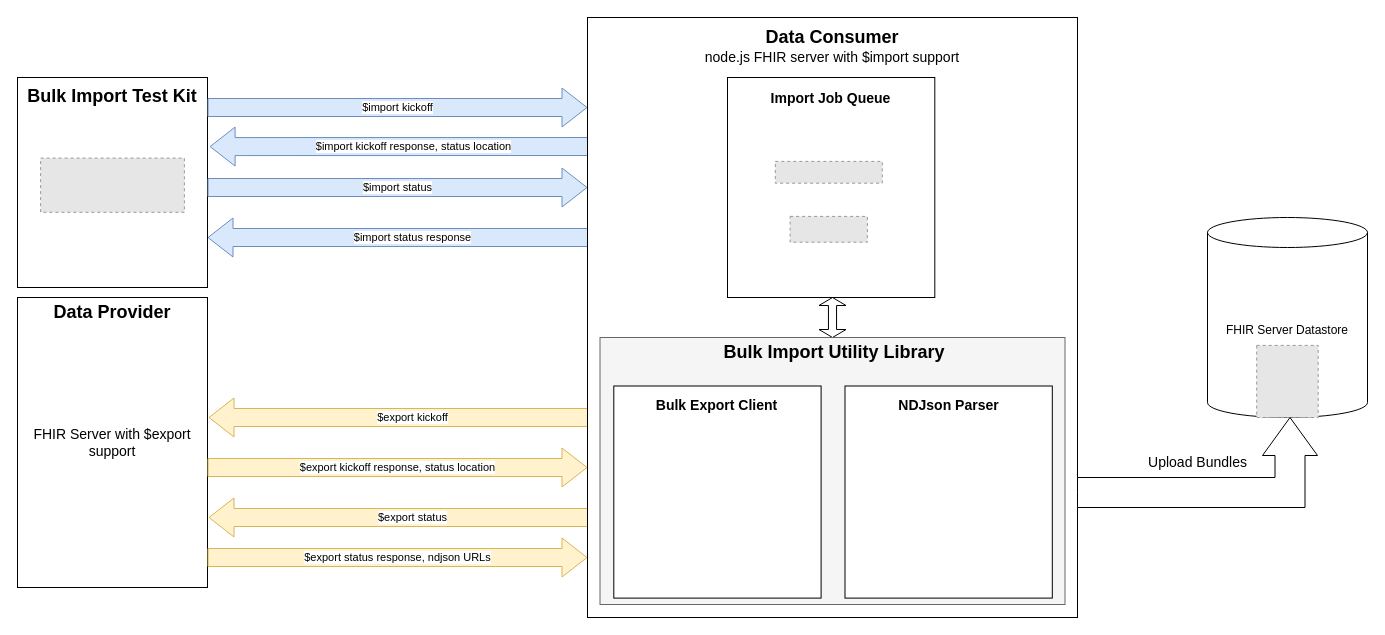
This 1385x635 diagram has some shape labels left out. Grey dashed boxes stand in for pictures. The shapes that lost their labels are listed below. From the top down, each one's box as (x1, y1, x2, y2) in pixels, then its label:
(613, 385, 821, 598): Executes $export flow with Data Provider
(844, 385, 1052, 598): Validates References, Maps ndjson to Patient Bundles
